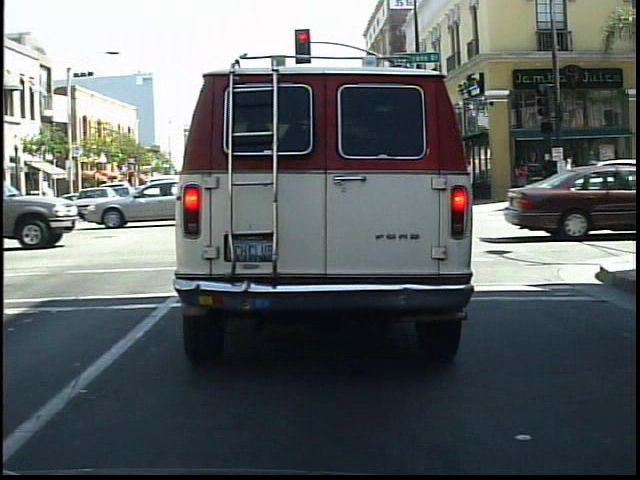person: (539, 151, 562, 203), (513, 156, 533, 202)
